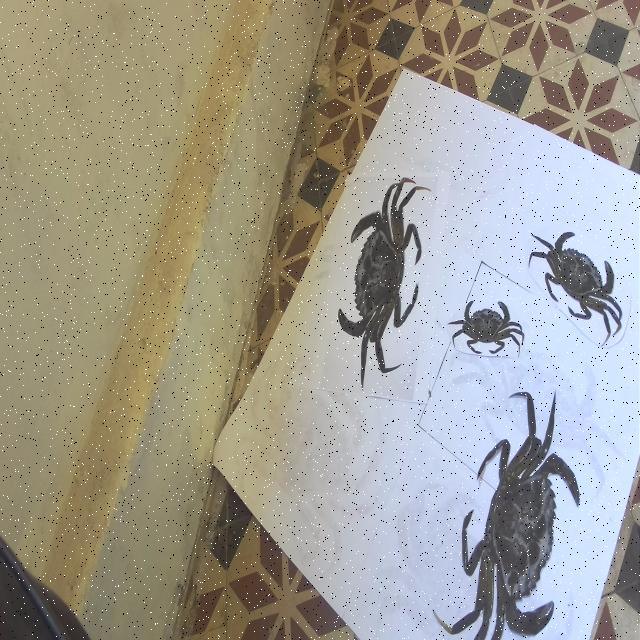European_Green_Crab: (329, 157, 432, 408), (521, 198, 634, 358), (446, 296, 526, 359), (0, 0, 0, 1)
